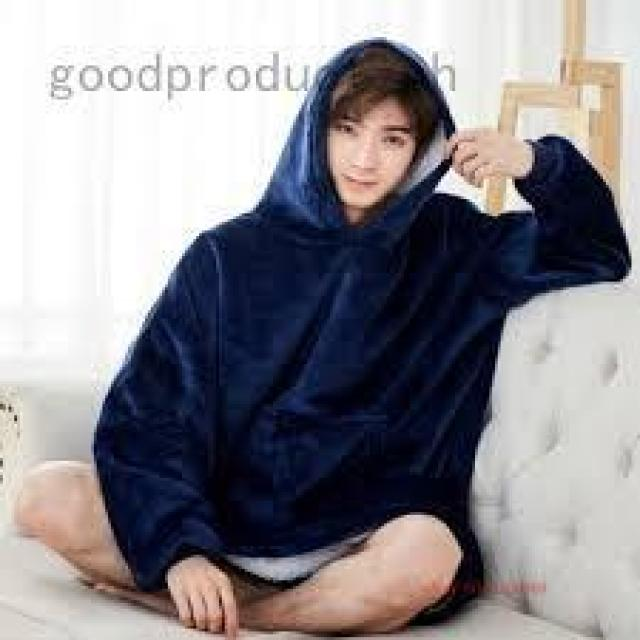sweater: (91, 44, 629, 570)
